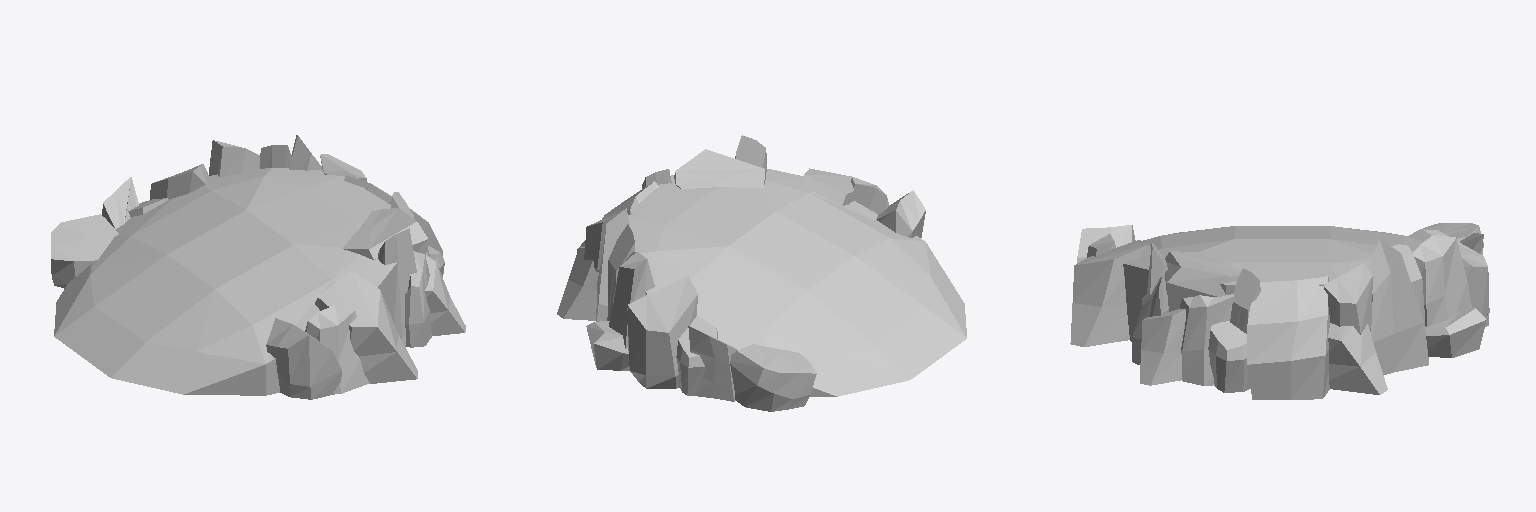
The model's file is sm_2x_hillCliff_1.OBJ.
The picture shows the model from 3 angles: view 1: azimuth 30°, elevation 25°; view 2: azimuth 150°, elevation 25°; view 3: azimuth 270°, elevation 25°; orthographic projection.
Parts seen in each view (by area): view 1: sm2xhillcliff1; view 2: sm2xhillcliff1; view 3: sm2xhillcliff1.
Part boxes in pixels (left/top/right/bottom): sm2xhillcliff1: left=51, top=135, right=465, bottom=399; sm2xhillcliff1: left=557, top=135, right=966, bottom=411; sm2xhillcliff1: left=1070, top=223, right=1489, bottom=399.
Bounding box in the file's own units: 10.65 × 3.66 × 11.23.